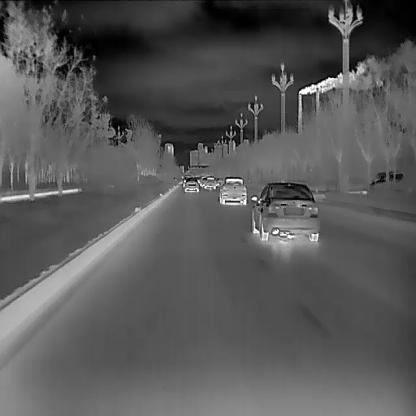car: (249, 180, 318, 240), (218, 176, 246, 205), (185, 176, 199, 192), (204, 176, 216, 188)
